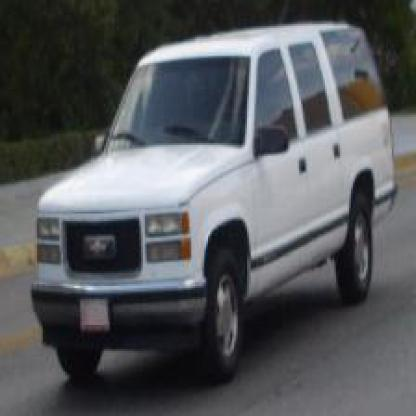not_emergency: (35, 32, 394, 375)
